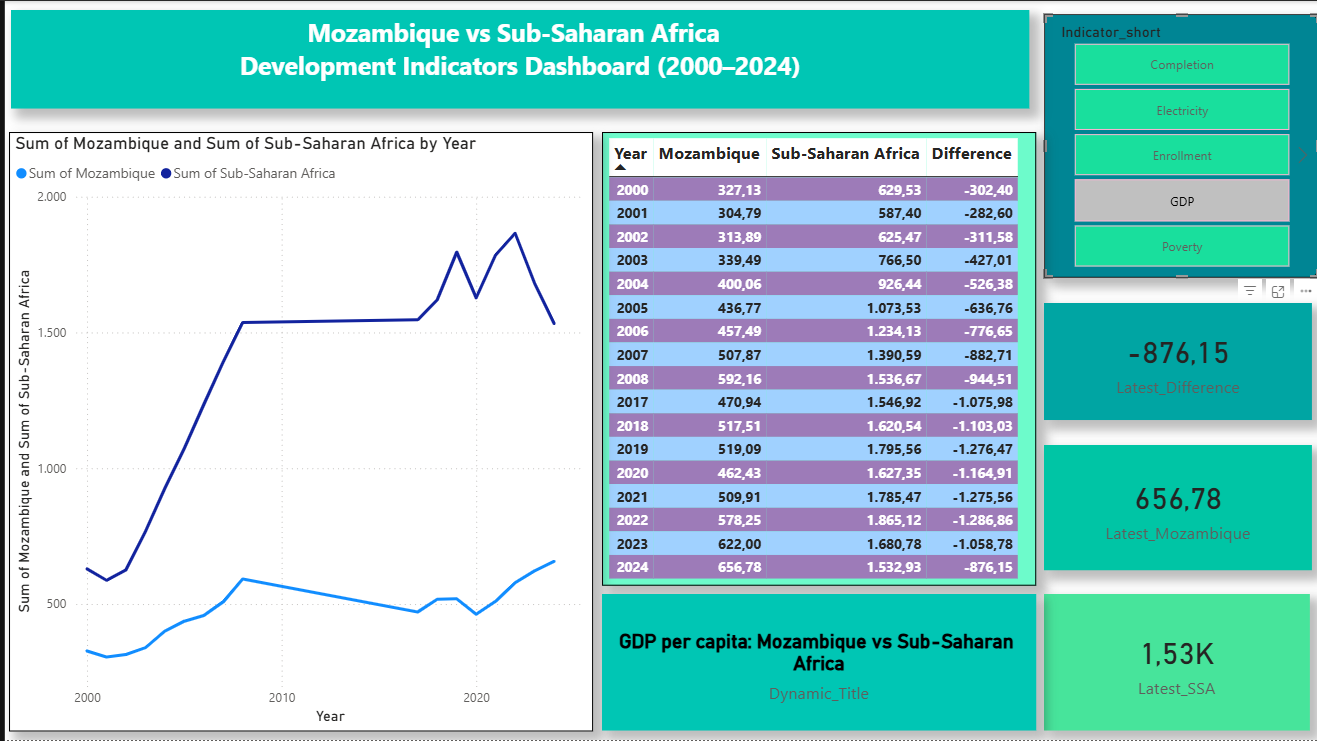

This screenshot's page, from the dashboard's own definition file:
{"tool":"powerbi","page":{"name":"Page 1","canvas":[1280,720],"ordinal":0},"visuals":[{"type":"slicer","fields":{"Values":["mozambique_vs_ssa_clean.Indicator_short"]},"box":[1012.5,12.6,267.5,256.8],"z":0},{"type":"tableEx","fields":{"Values":["mozambique_vs_ssa_clean.Year","mozambique_vs_ssa_clean.Mozambique","mozambique_vs_ssa_clean.Sub-Saharan Africa","mozambique_vs_ssa_clean.Difference"]},"box":[581.6,127.4,423.1,441.6],"z":1000},{"type":"lineChart","fields":{"Category":["mozambique_vs_ssa_clean.Year"],"Y":["Sum(mozambique_vs_ssa_clean.Mozambique)","Sum(mozambique_vs_ssa_clean.Sub-Saharan Africa)"]},"box":[3.9,127.6,568.9,583.5],"z":2000},{"type":"card","fields":{"Values":["mozambique_vs_ssa_clean.Latest_SSA"]},"box":[1012.5,577.8,258.7,133.3],"z":3000},{"type":"card","fields":{"Values":["mozambique_vs_ssa_clean.Latest_Mozambique"]},"box":[1012.1,432.5,261.1,121.8],"z":4000},{"type":"card","fields":{"Values":["mozambique_vs_ssa_clean.Latest_Difference"]},"box":[1012.1,294.2,261.1,114],"z":5000},{"type":"card","fields":{"Values":["mozambique_vs_ssa_clean.Indicator_Interpretation"]},"box":[581.6,577.7,422.8,133.5],"z":6000},{"type":"textbox","box":[5.8,8.8,992.1,96.3],"z":7000}]}

Visuals, with their boxes in screenshot pixels (x1, y1, x2, y2), scaled from the page's 1280x720 canvas onto the 1317x741 screenshot:
slicer - mozambique_vs_ssa_clean.Indicator_short: (1042,13,1316,277)
tableEx - mozambique_vs_ssa_clean.Year x mozambique_vs_ssa_clean.Mozambique: (598,131,1034,586)
lineChart - mozambique_vs_ssa_clean.Year x Sum(mozambique_vs_ssa_clean.Mozambique): (4,131,589,732)
card - mozambique_vs_ssa_clean.Latest_SSA: (1042,595,1308,732)
card - mozambique_vs_ssa_clean.Latest_Mozambique: (1041,445,1310,570)
card - mozambique_vs_ssa_clean.Latest_Difference: (1041,303,1310,420)
card - mozambique_vs_ssa_clean.Indicator_Interpretation: (598,595,1033,732)
textbox: (6,9,1027,108)
